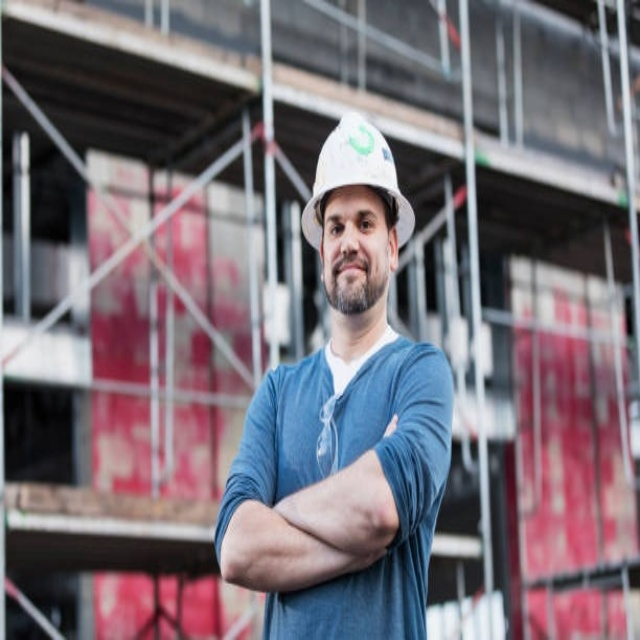Sin_gafas: (322, 200, 381, 237)
Sin_mascara: (330, 250, 374, 297)
